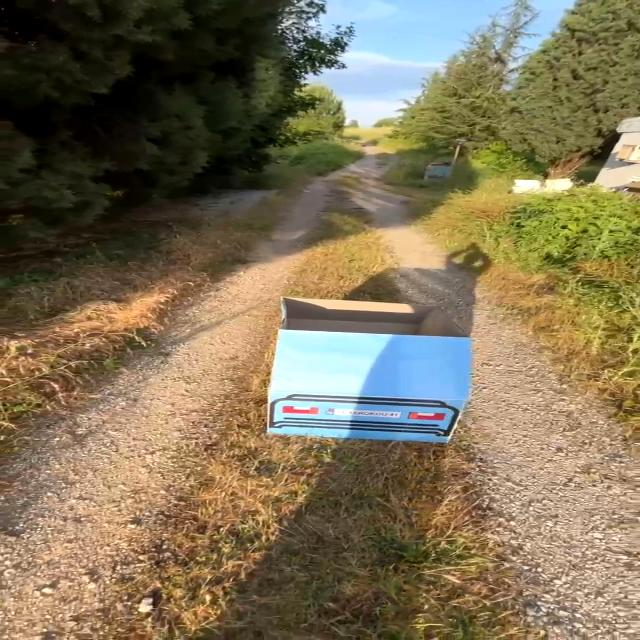blue_car: (202, 258, 523, 459)
